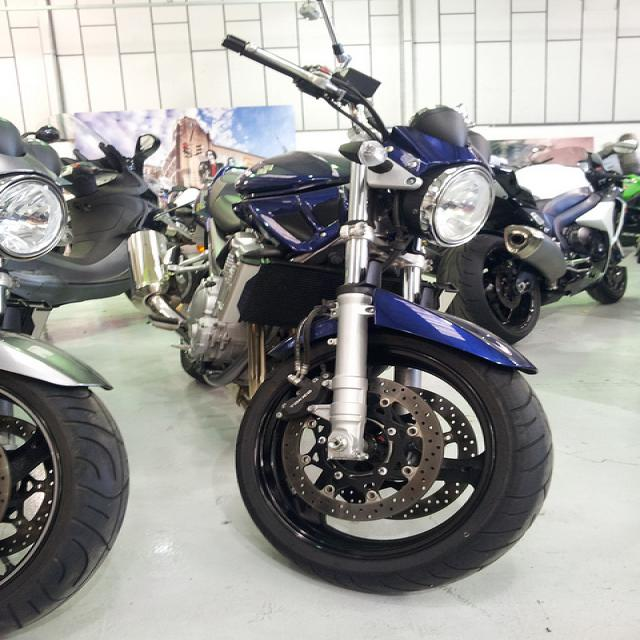motor: (132, 33, 548, 593), (2, 120, 144, 623), (437, 160, 637, 342)
